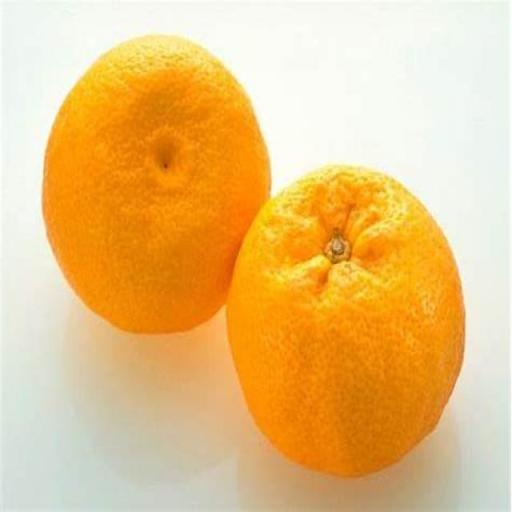fruit: (228, 166, 464, 475), (44, 36, 269, 332)
